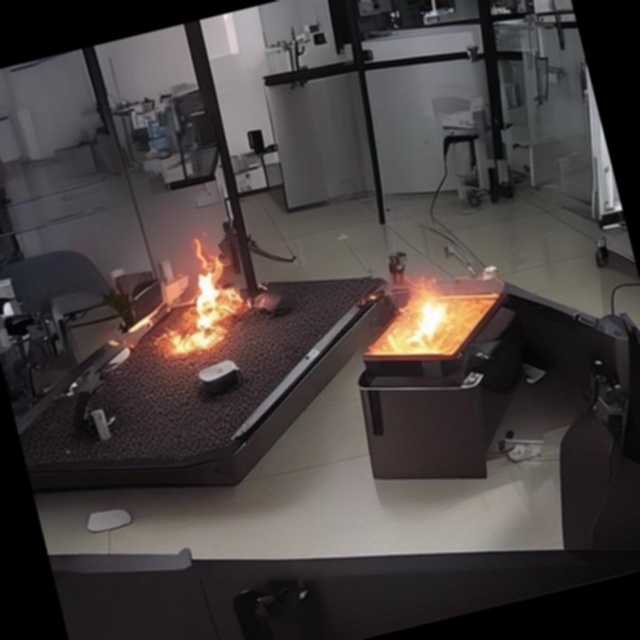fire: (358, 242, 507, 381), (145, 240, 279, 386)
